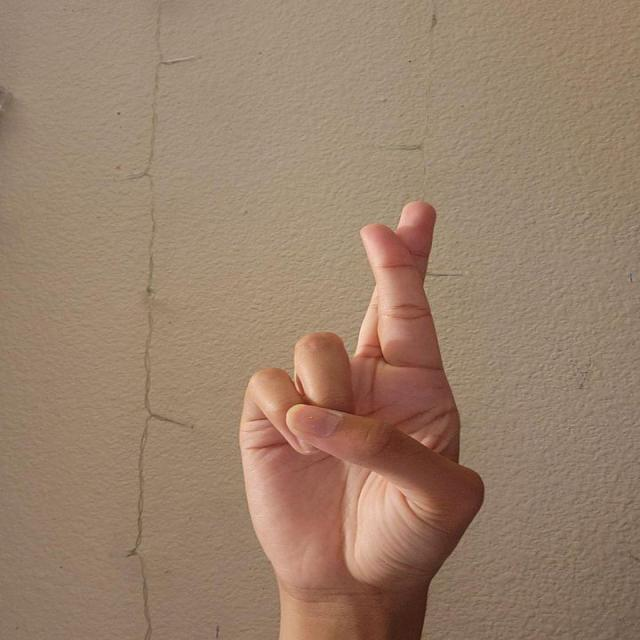R: (226, 196, 492, 593)
